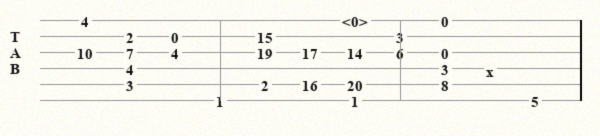0: (171, 29, 183, 43), (441, 45, 453, 59), (441, 13, 453, 27)
1: (216, 93, 228, 107), (351, 93, 363, 107)
10: (77, 45, 97, 59)
14: (347, 45, 367, 59)
15: (257, 29, 277, 43)
16: (302, 77, 322, 91)
17: (302, 45, 322, 59)
19: (257, 45, 277, 59)
2: (126, 29, 138, 43), (261, 77, 273, 91)
20: (347, 77, 367, 91)
3: (126, 77, 138, 91), (396, 29, 408, 43), (441, 61, 453, 75)
4: (81, 13, 93, 27), (126, 61, 138, 75), (171, 45, 183, 59)
5: (531, 93, 543, 107)
6: (396, 45, 408, 59)
7: (126, 45, 138, 59)
8: (441, 77, 453, 91)
harmonic: (342, 13, 372, 27)
x: (486, 63, 498, 74)
